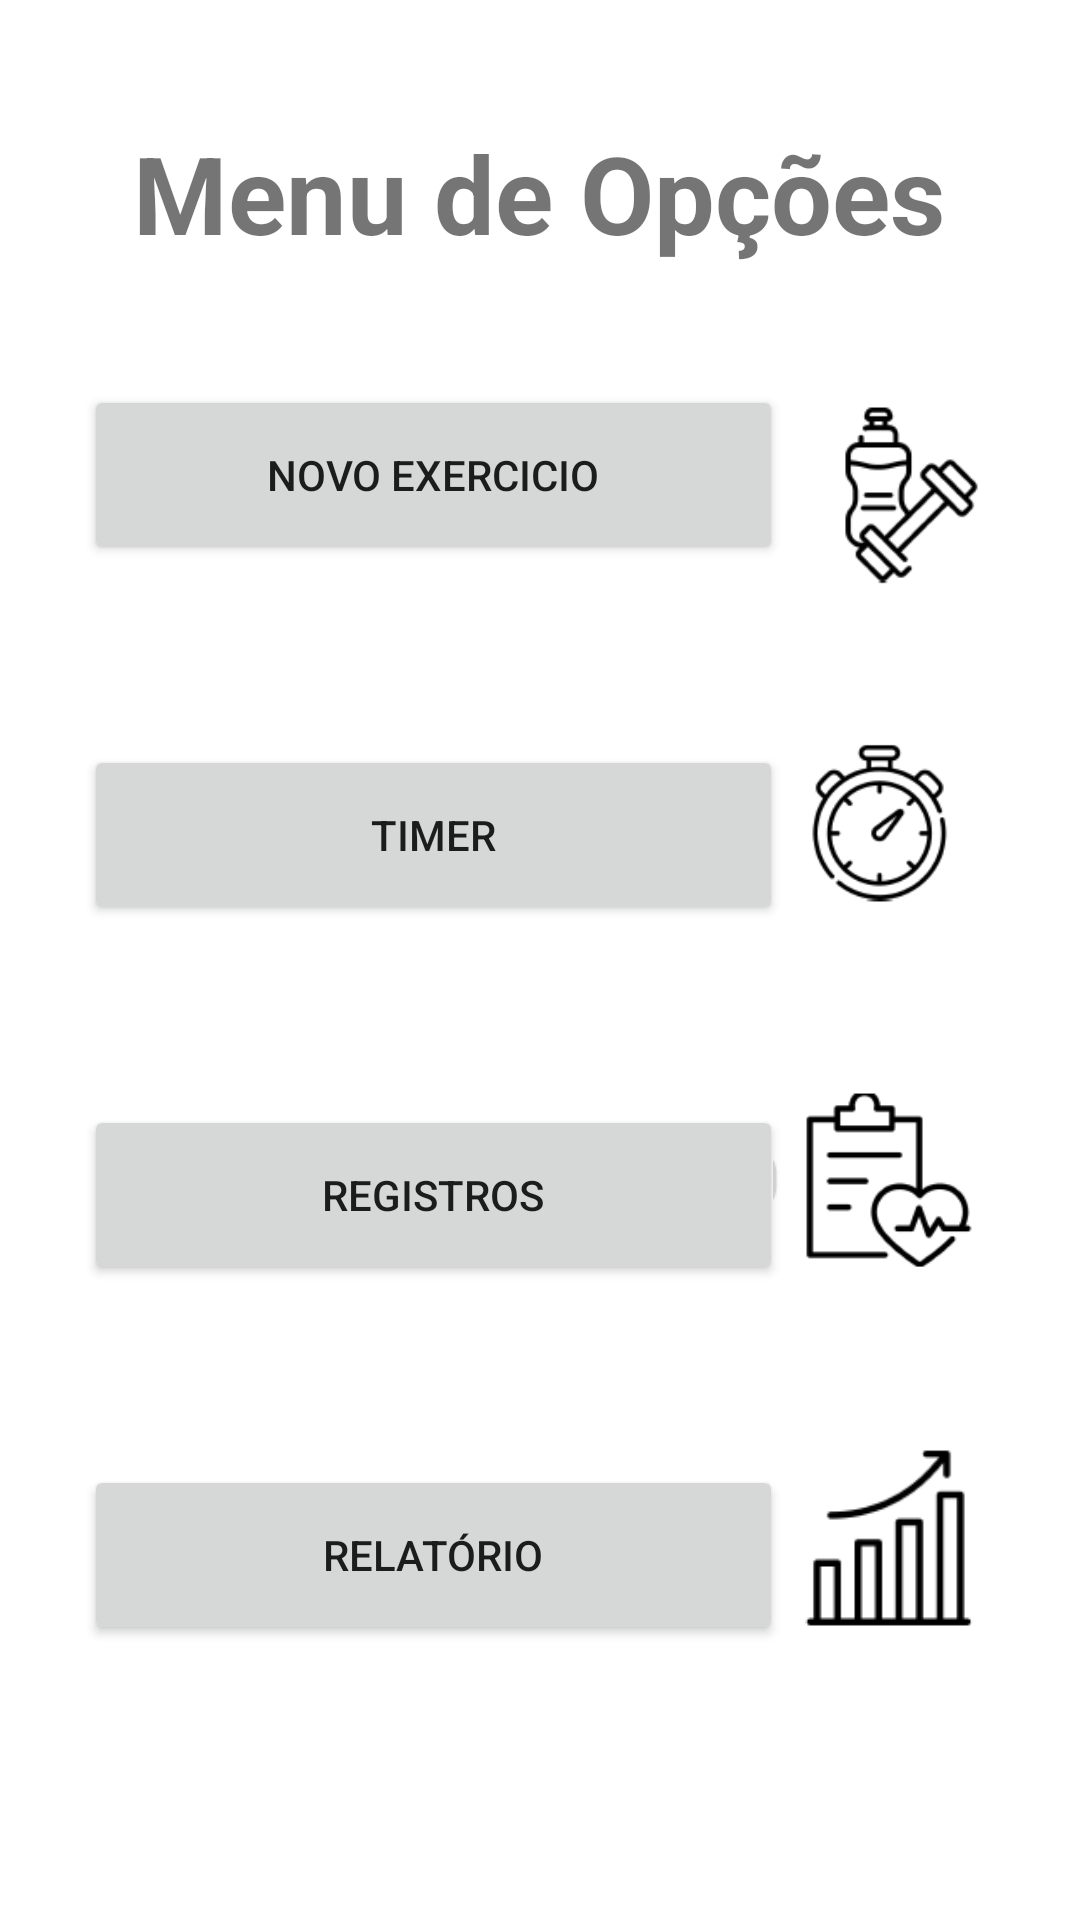

Screen size 1080px x 1920px. Icon name, then its center in pixels as (x=x, y=y):
evolucao: (x=888, y=1538)
